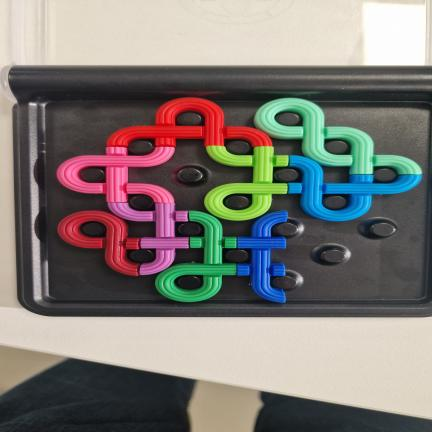B_SkyBlue: (287, 156, 421, 221)
C_DarkBlue: (237, 212, 287, 302)
D_Green: (156, 212, 236, 302)
E_Red: (107, 98, 272, 147)
F_Teal: (254, 98, 421, 176)
G_Pink: (57, 147, 174, 203)
H_Purple: (108, 203, 188, 275)
J_DarkRed: (58, 211, 140, 275)
K_YellowGreen: (205, 146, 288, 220)
board: (9, 66, 432, 317)
hinge: (4, 63, 432, 98)
pin: (128, 139, 154, 156), (224, 195, 251, 210), (369, 222, 396, 237), (225, 140, 251, 155), (80, 222, 106, 237), (175, 275, 202, 289), (178, 168, 203, 183), (129, 195, 154, 210), (273, 222, 298, 237), (275, 112, 301, 126), (128, 249, 154, 263), (80, 168, 104, 183), (275, 168, 299, 183), (273, 276, 297, 291), (177, 112, 202, 126), (325, 140, 350, 154), (374, 168, 397, 183), (323, 196, 347, 210), (177, 222, 201, 236), (321, 249, 345, 263), (226, 249, 248, 263)
